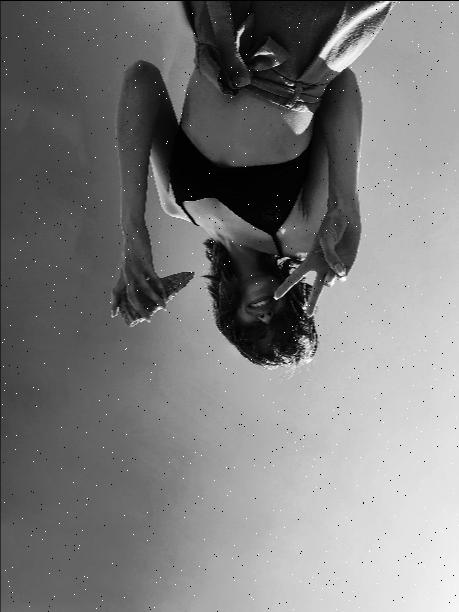Scissors: (270, 210, 370, 320)
